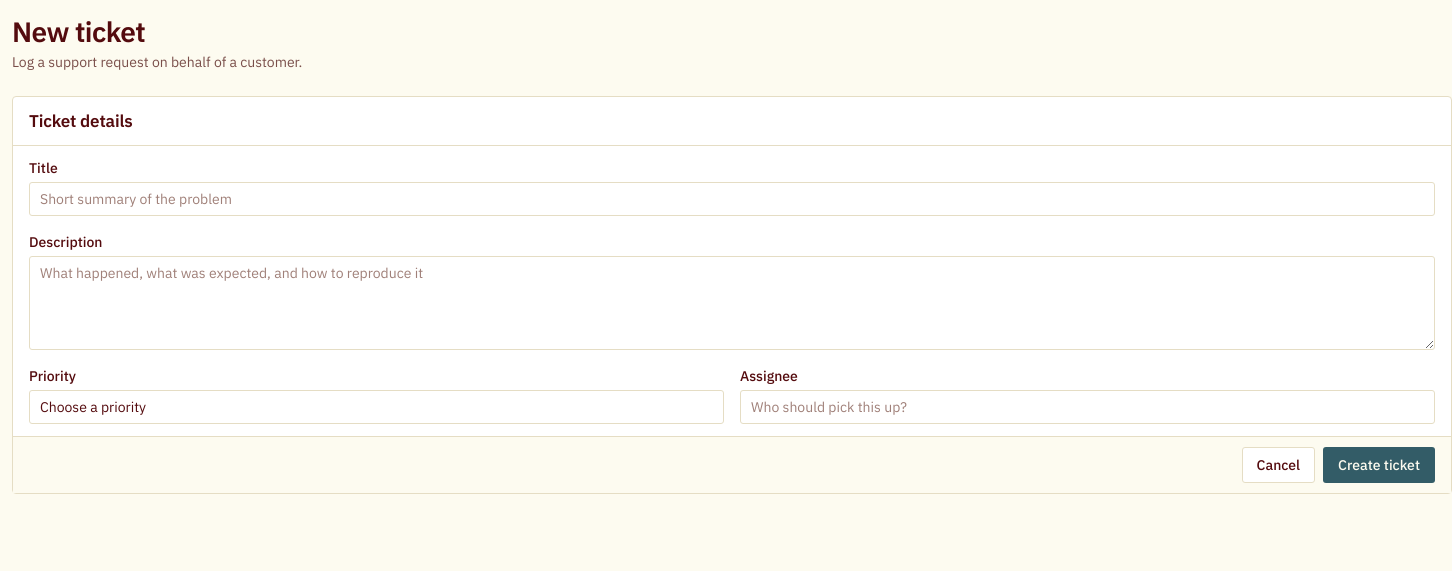
Test: NewTicketPage › rejects a title that is too short
The width and height of the screenshot is (1452, 571).
Type "Bug" into the field labelled "Title" at [732, 199], box [29, 182, 1435, 216]
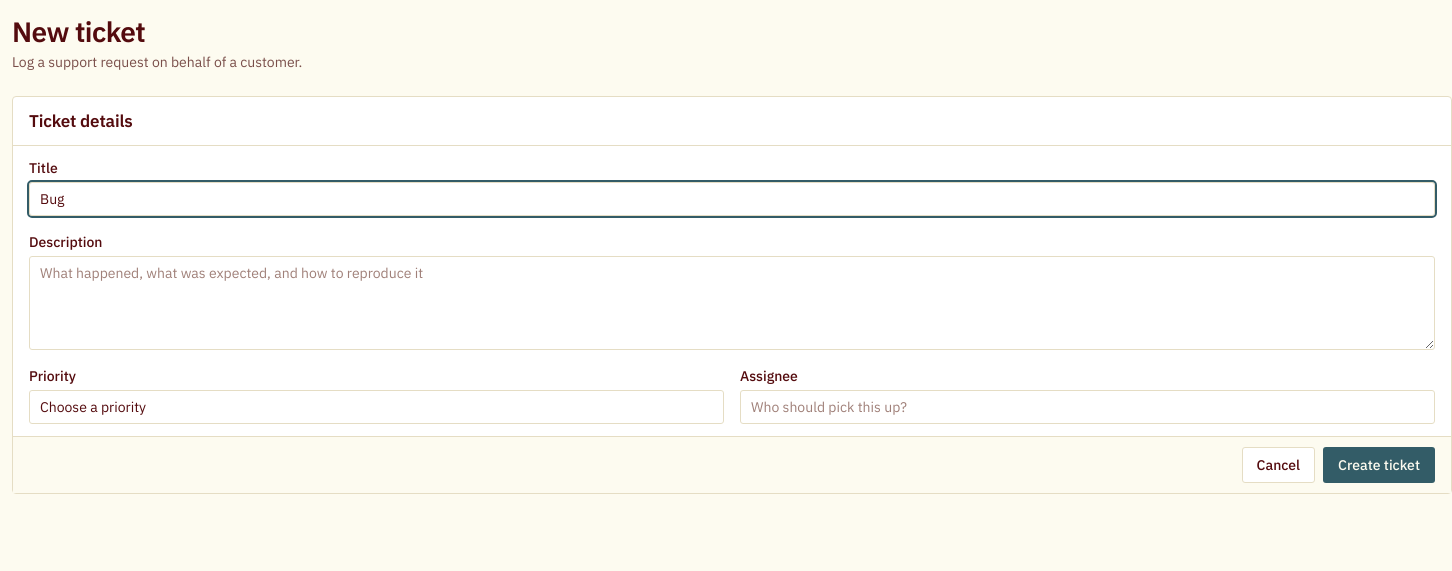
Click the button "Create ticket" at [1379, 465], box [1323, 447, 1435, 483]
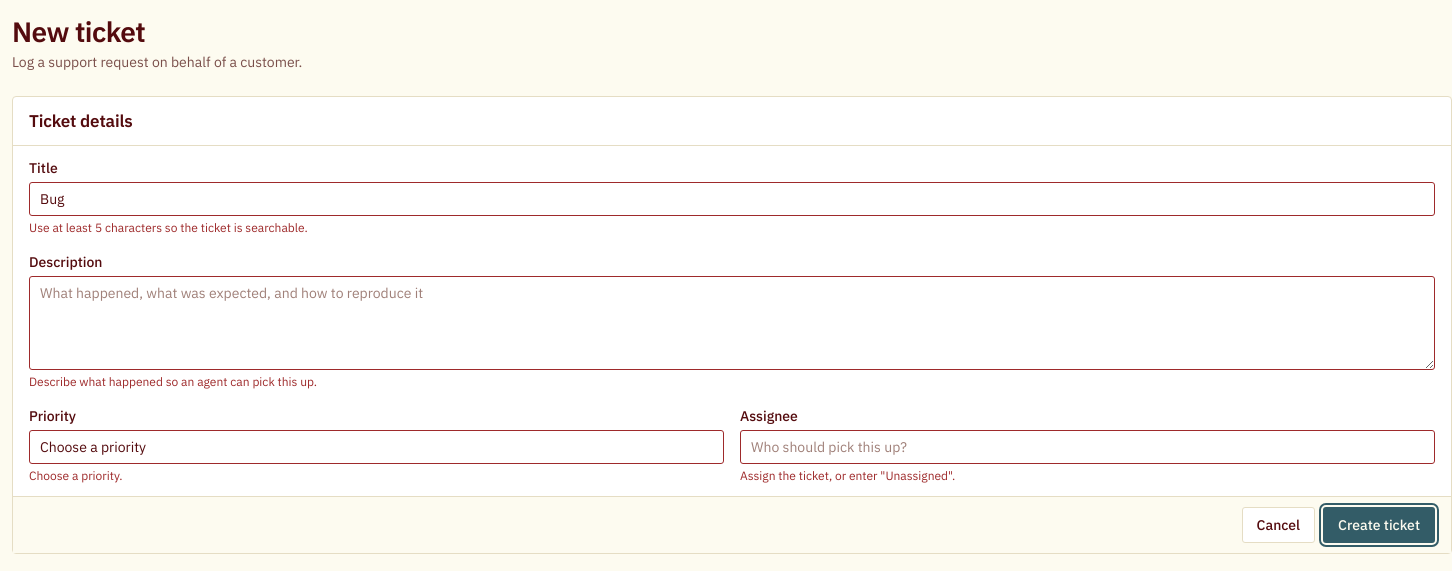
Now the text "Use at least 5 characters so the ticket is searchable." is shown, box [29, 220, 308, 235]
